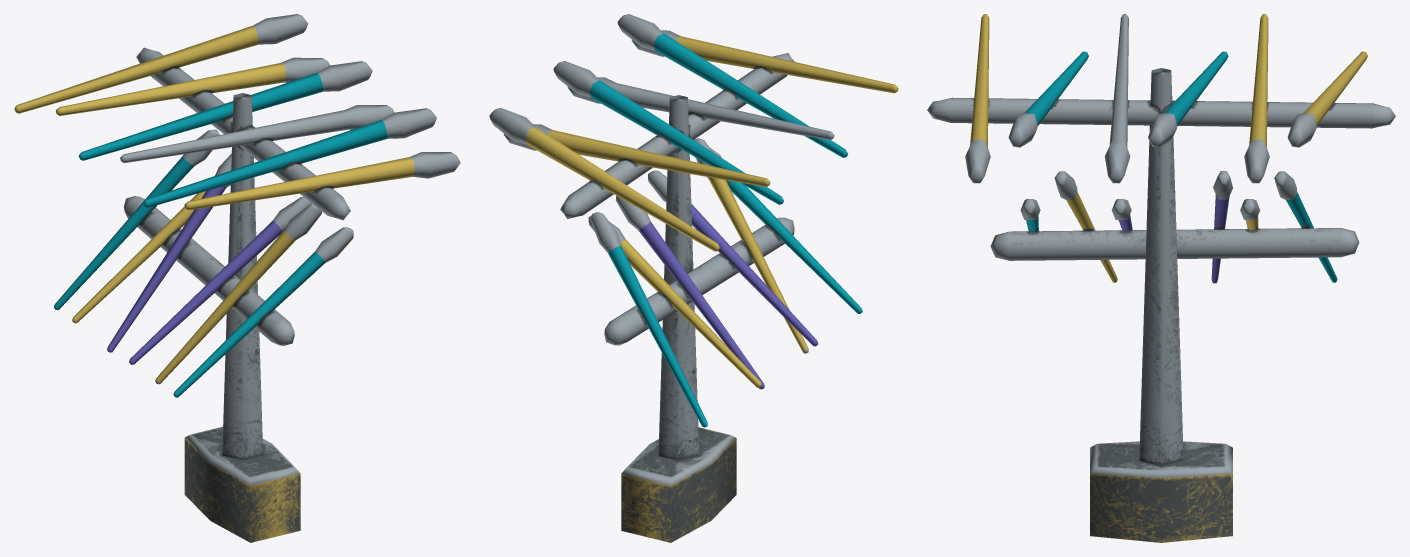
Rendered from SM_Power_Pole_03.fbx.
The picture shows the model from 3 angles, left to right: view 1: azimuth 30°, elevation 25°; view 2: azimuth 150°, elevation 25°; view 3: azimuth 270°, elevation 25°; orthographic projection. The views are drawn at different scales.
Parts seen in each view (by area): view 1: SM_Power_Pole_03; view 2: SM_Power_Pole_03; view 3: SM_Power_Pole_03.
Boxes of the visible parts, bbox=[...] form: SM_Power_Pole_03: bbox=[14, 14, 460, 542]; SM_Power_Pole_03: bbox=[489, 14, 898, 542]; SM_Power_Pole_03: bbox=[927, 14, 1395, 542].
Bounding box in the file's own units: 76.05 × 106 × 114.
